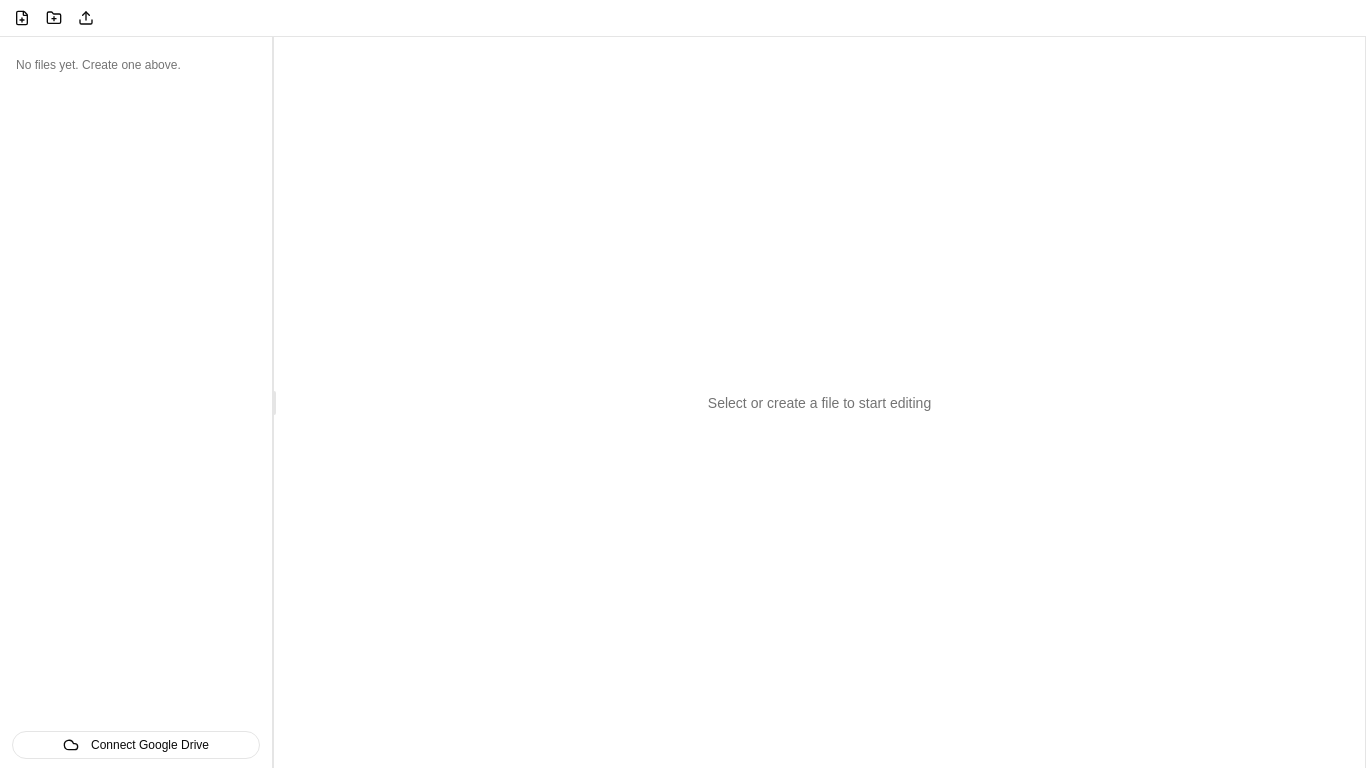
Test: /app — Notebook editor › typing in editor updates the preview
Click the button with test id "new-file-btn". click: click(22, 18)
box: [8,4,36,32]
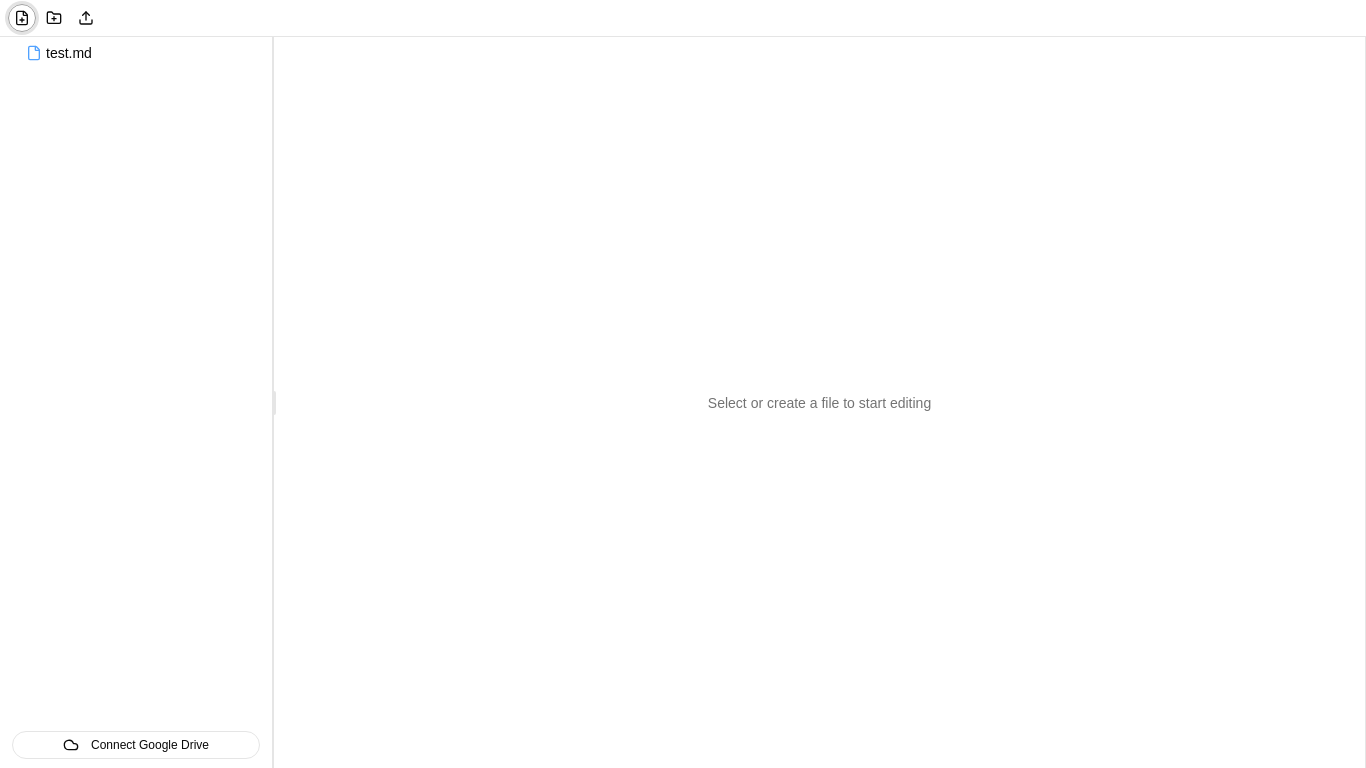
Click the text "test.md". click: click(69, 53)
box: [46,45,92,61]
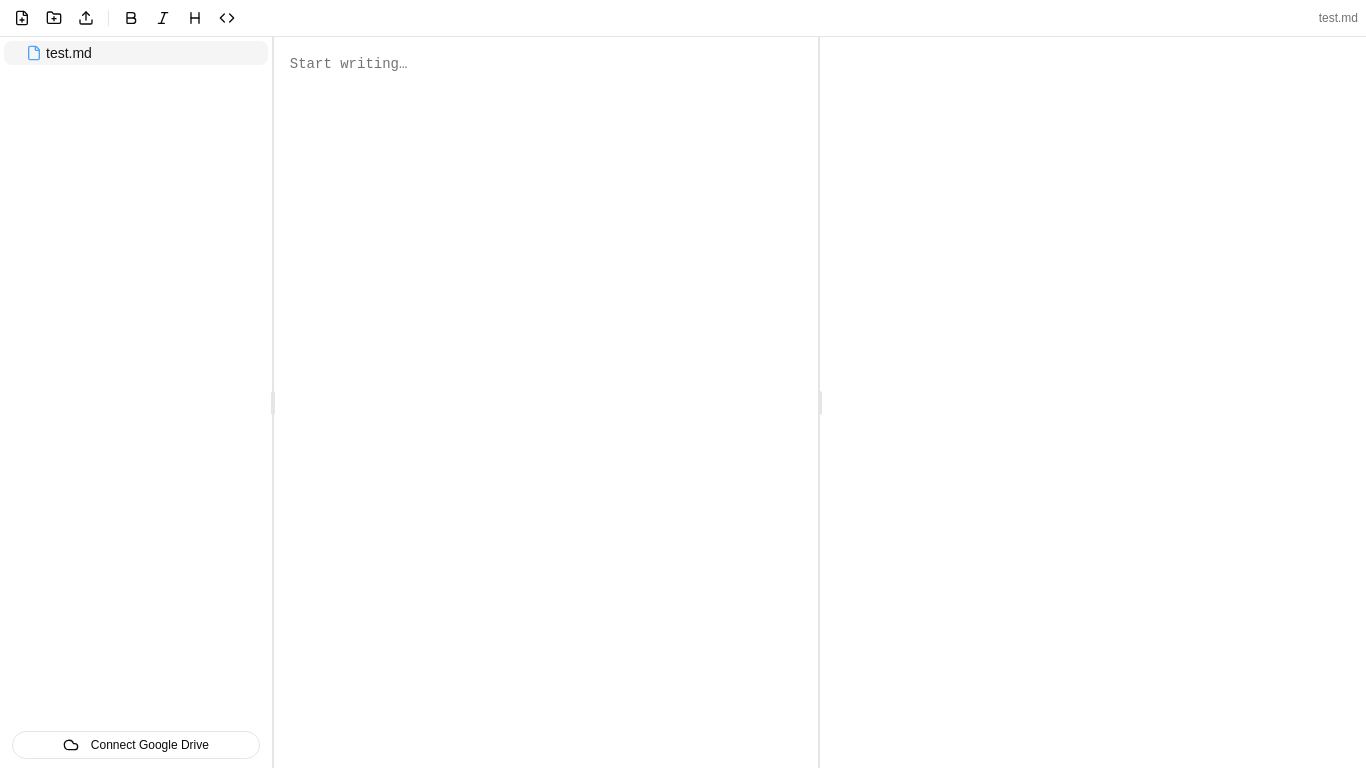
Type "# Hello World" into the text box with test id "markdown-editor". click: (547, 403)
box: [274,37,819,767]
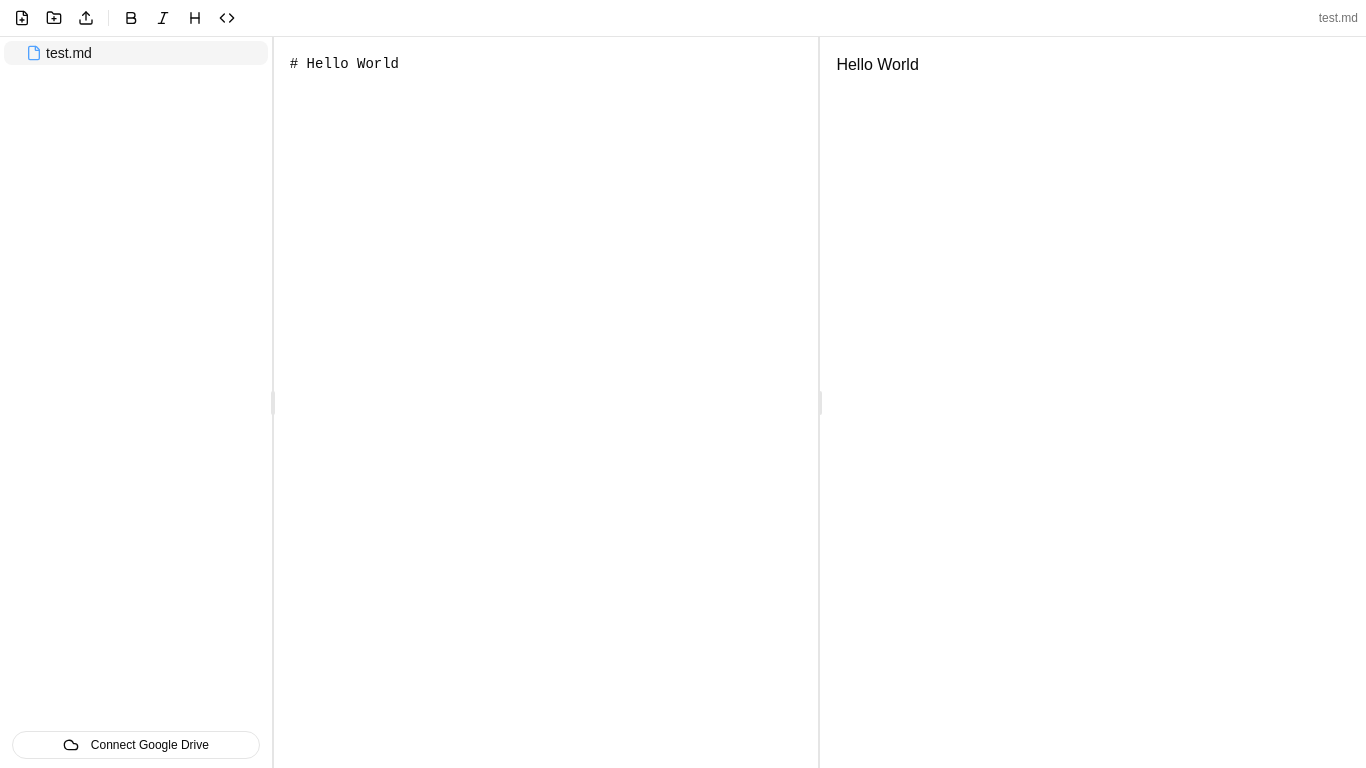
Expected: the heading with test id "markdown-preview" reads "Hello World", [836,56,918,73]
